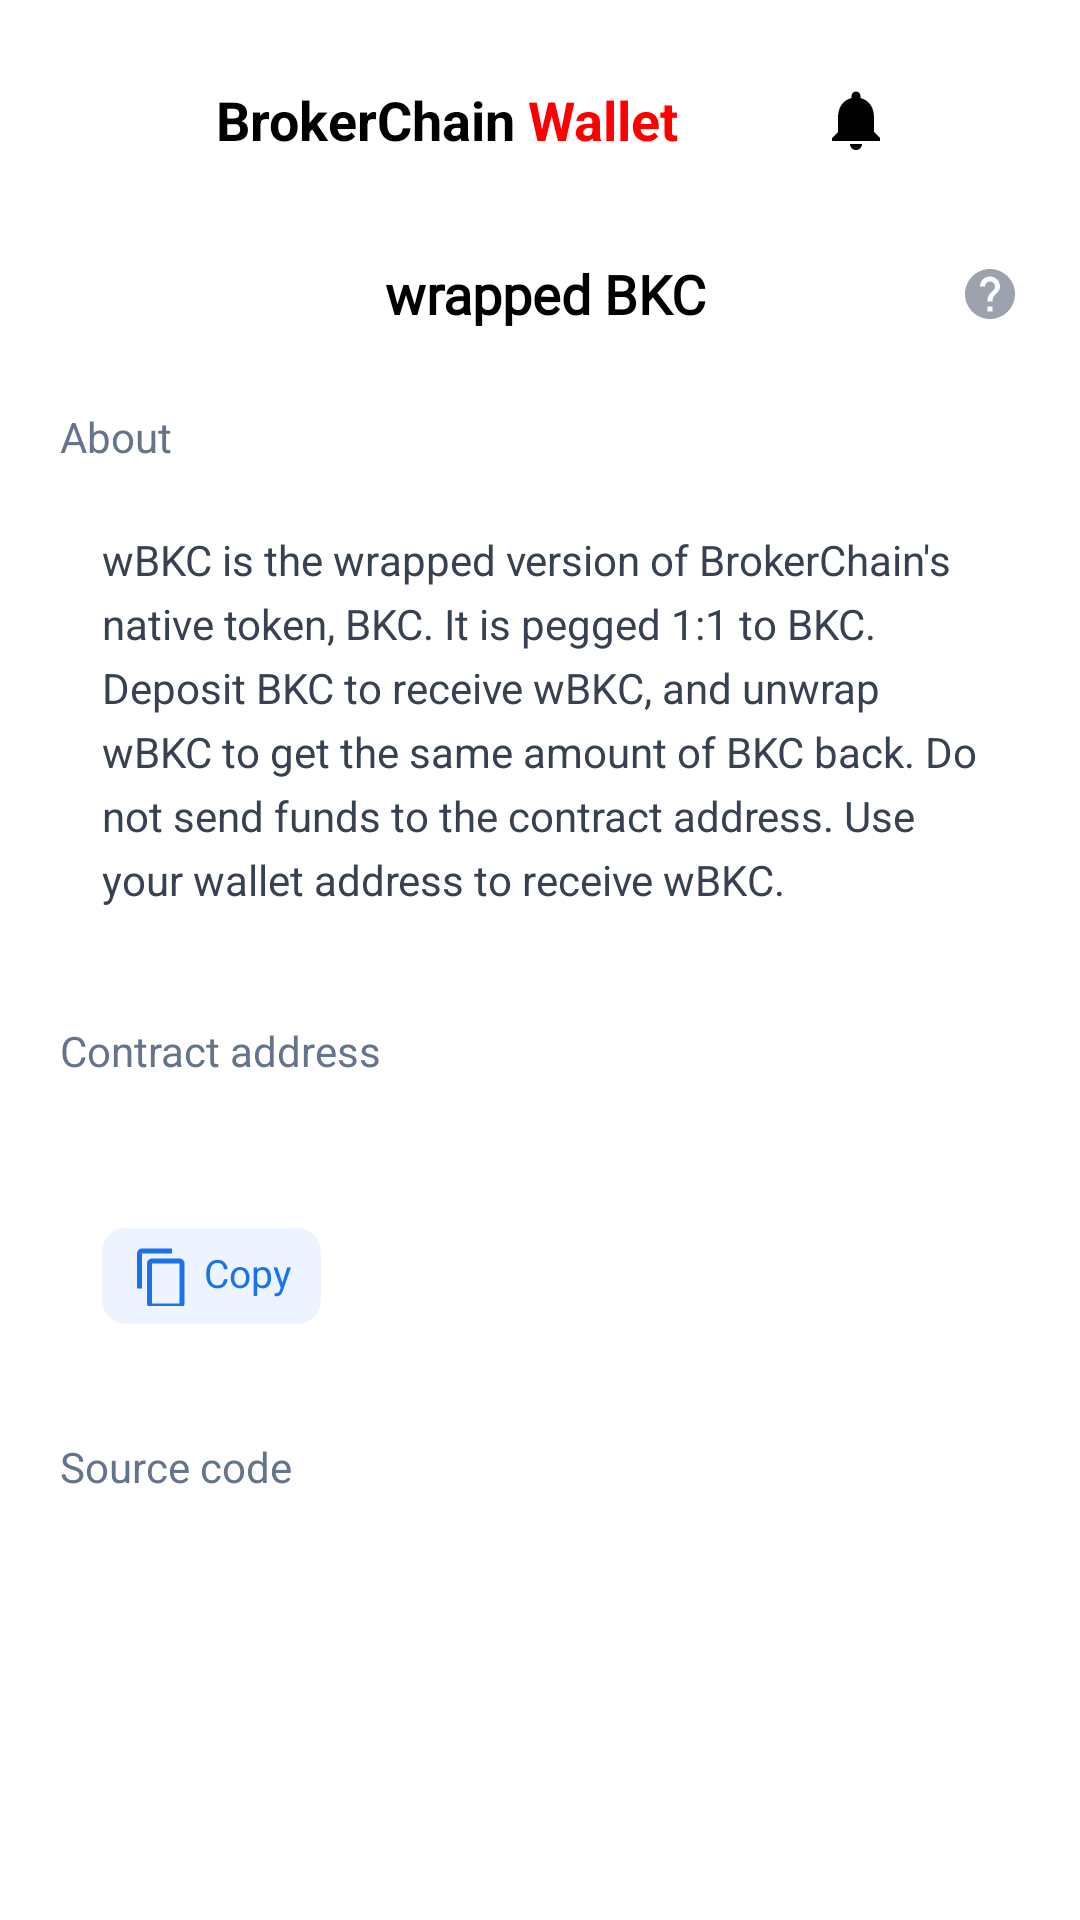

Screen size 1080px×1920px. Icon name, then its center in pixels as [x,y]:
Notifications: [856,120]
